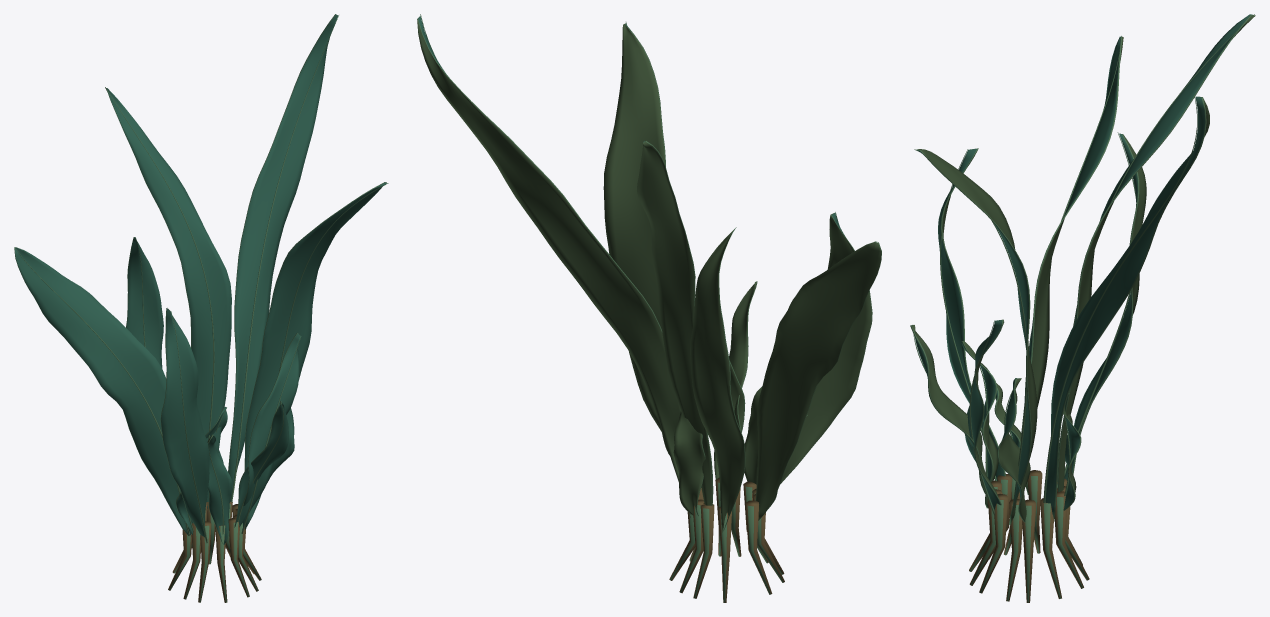
The model's file is drowned-rooted-fronds.glb.
The picture shows the model from 3 angles, left to right: view 1: azimuth 30°, elevation 25°; view 2: azimuth 150°, elevation 25°; view 3: azimuth 270°, elevation 25°; orthographic projection. The views are drawn at different scales.
Parts seen in each view (by area): view 1: drowned-rooted-fronds; view 2: drowned-rooted-fronds; view 3: drowned-rooted-fronds.
Boxes of the visible parts, <box> form: drowned-rooted-fronds: <box>14,14,388,602</box>; drowned-rooted-fronds: <box>417,14,881,602</box>; drowned-rooted-fronds: <box>910,14,1255,602</box>.
Size of the model in its own units: 1.1 by 1.41 by 0.7335.
